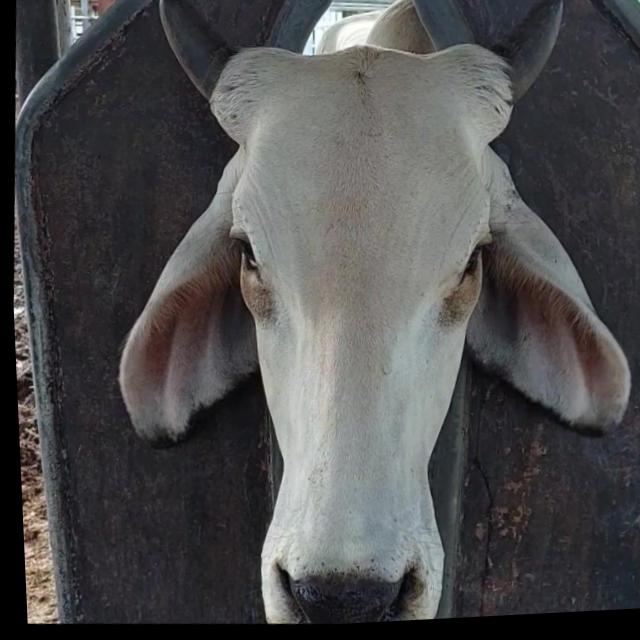cowFace: (204, 38, 506, 632)
